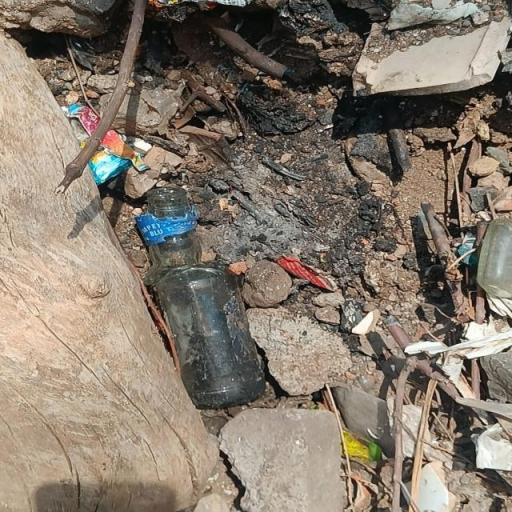glass: (134, 187, 264, 419)
